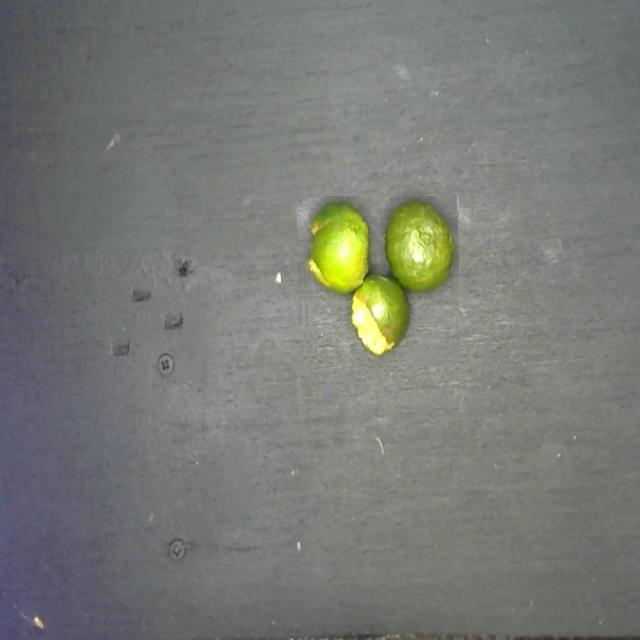biodegradable: (299, 196, 459, 368)
